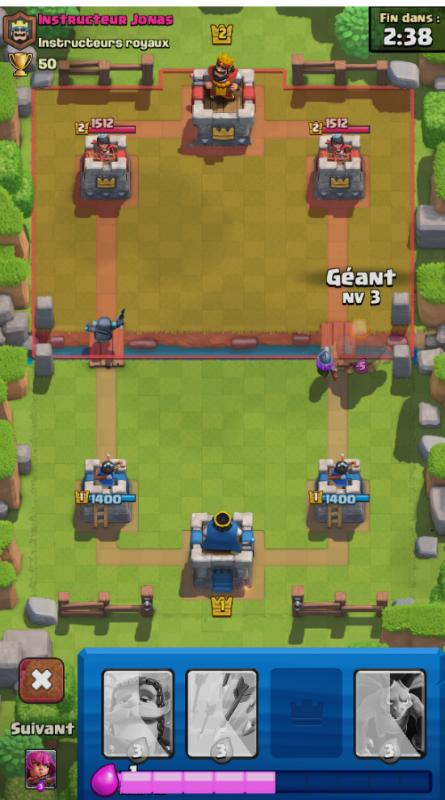geant: (333, 318, 397, 382)
mini_PEKKA: (79, 306, 134, 352)
mousquetaire: (312, 345, 346, 393)
